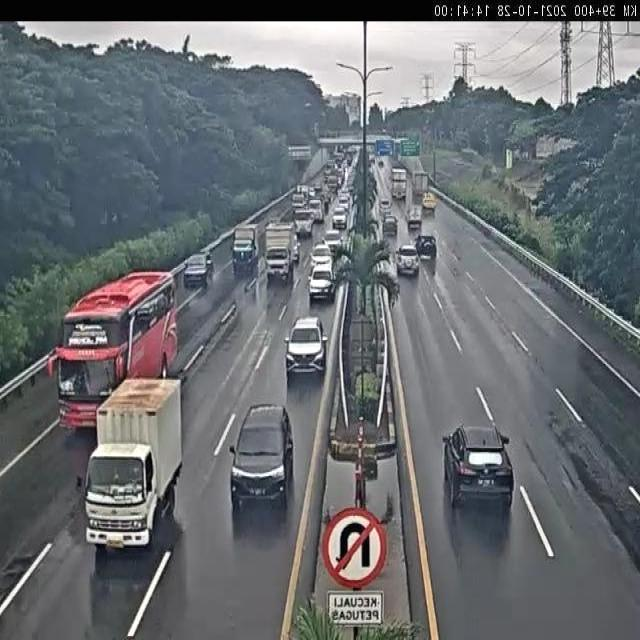Bus: (58, 307, 168, 393)
Car: (230, 403, 296, 514), (448, 433, 512, 504), (284, 315, 329, 381), (184, 253, 214, 289), (395, 243, 420, 277), (311, 254, 334, 282), (415, 233, 437, 260), (379, 198, 392, 214), (368, 158, 378, 178), (378, 160, 383, 167)
Truck: (82, 372, 182, 546), (263, 220, 297, 284), (231, 224, 259, 278), (413, 169, 429, 203), (391, 166, 407, 199), (401, 137, 420, 156), (376, 140, 393, 156)
Van: (342, 163, 358, 200), (323, 229, 342, 255), (295, 216, 314, 240), (406, 206, 423, 231), (382, 214, 398, 237), (308, 199, 323, 223), (332, 208, 347, 230), (291, 196, 305, 214), (322, 174, 333, 196), (347, 145, 359, 162), (310, 183, 322, 200), (334, 152, 344, 168), (366, 145, 376, 158)
